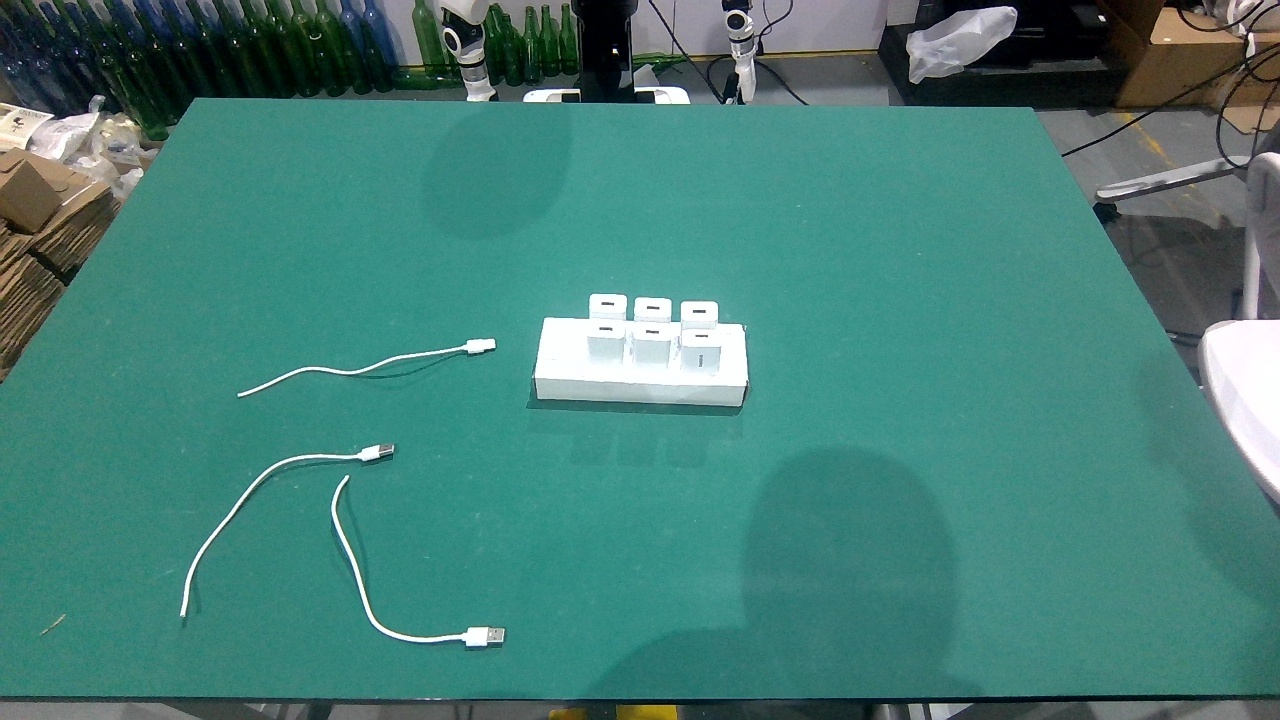usb_a_port: (645, 304, 663, 312), (690, 308, 708, 316), (599, 300, 616, 308), (596, 324, 613, 332), (645, 328, 660, 336), (693, 333, 710, 340)
